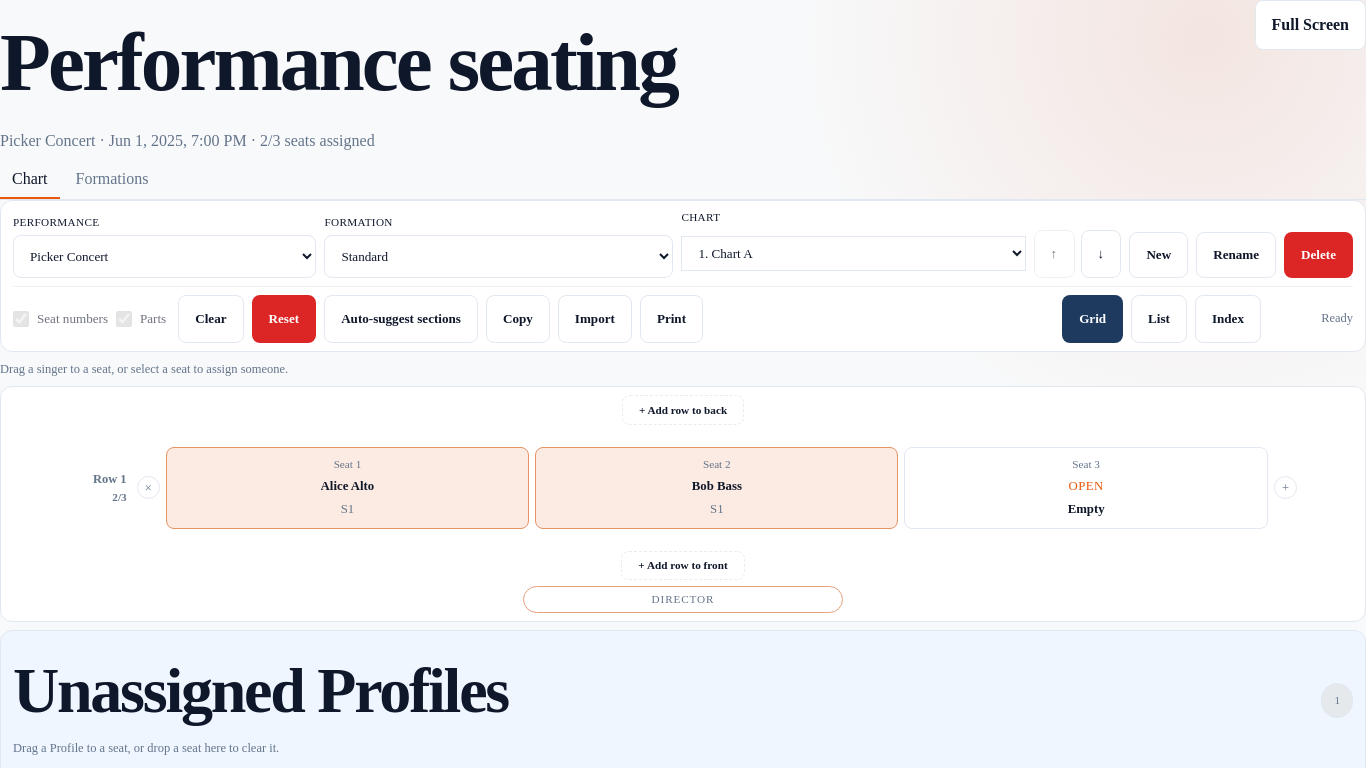
Test case: Seat assignment candidate picker › shows only unassigned eligible Profiles on an empty seat
Step 1. Click the button named "Seat 3, empty" → click(1086, 488), box [904, 447, 1268, 529]
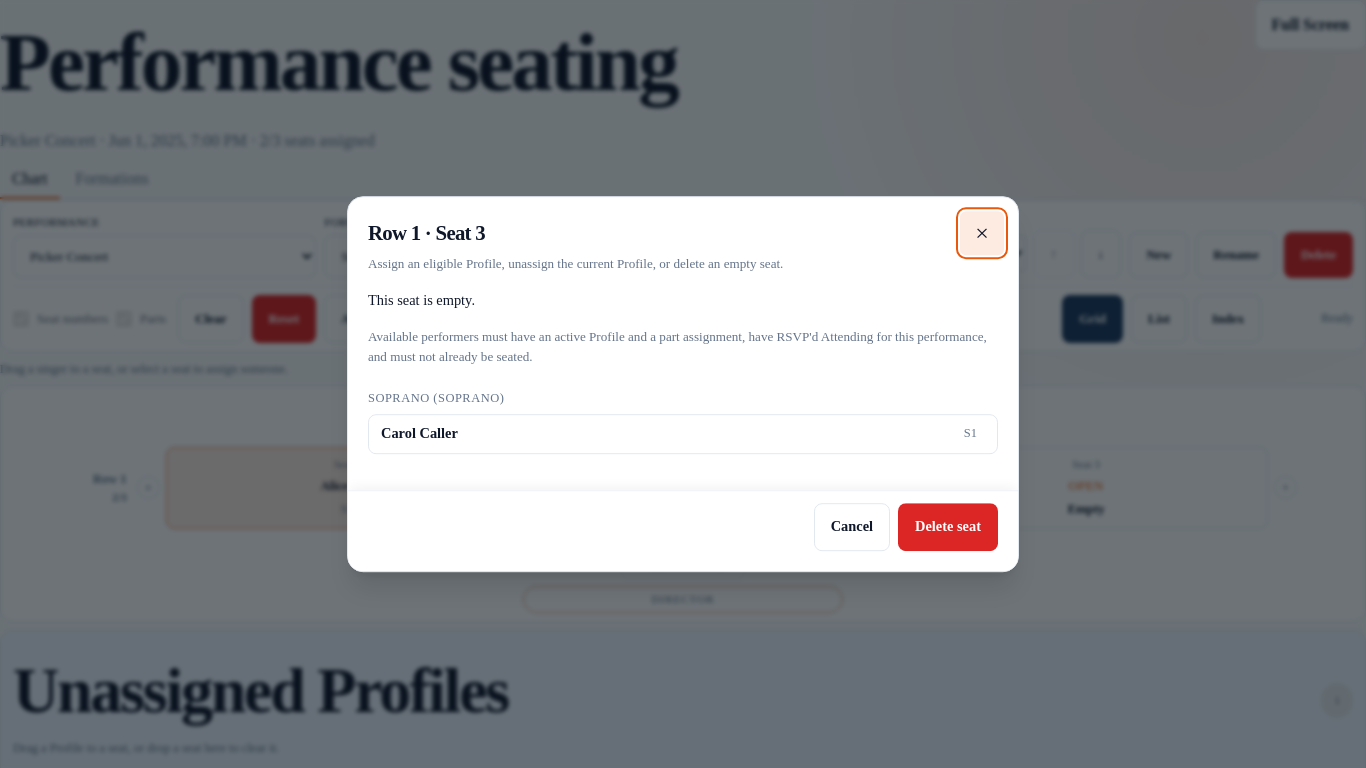
Now the button "Carol Caller S1" is shown, box [368, 414, 998, 454]
